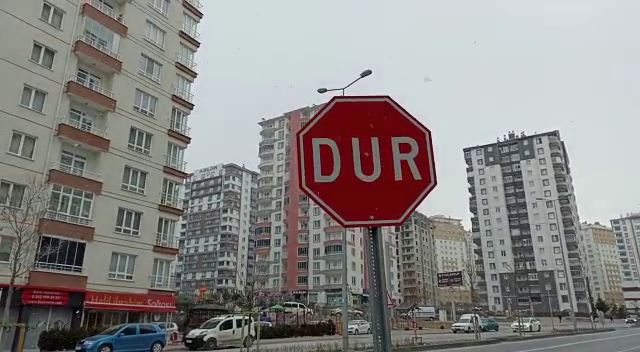stop: (294, 93, 439, 230)
